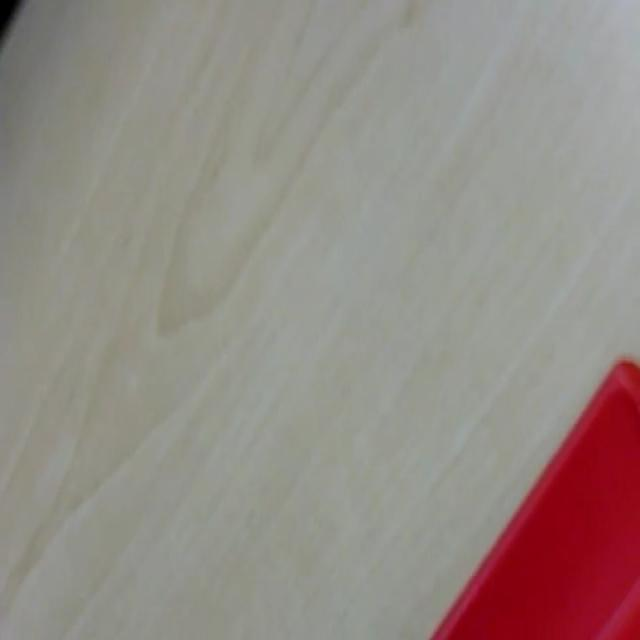red_block: (428, 355, 638, 637)
